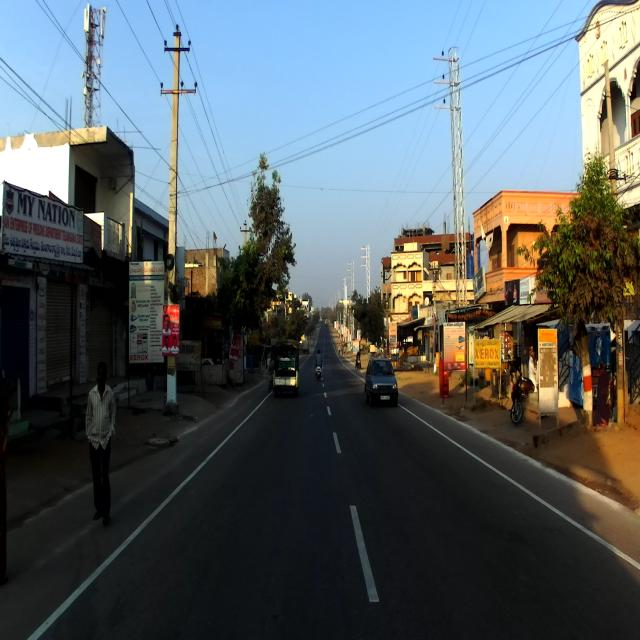auto ahead at: (264, 342, 305, 398)
car ahead at: (364, 354, 398, 406)
electric pole ahead at: (151, 21, 204, 411)
person ahead at: (84, 364, 121, 526)
